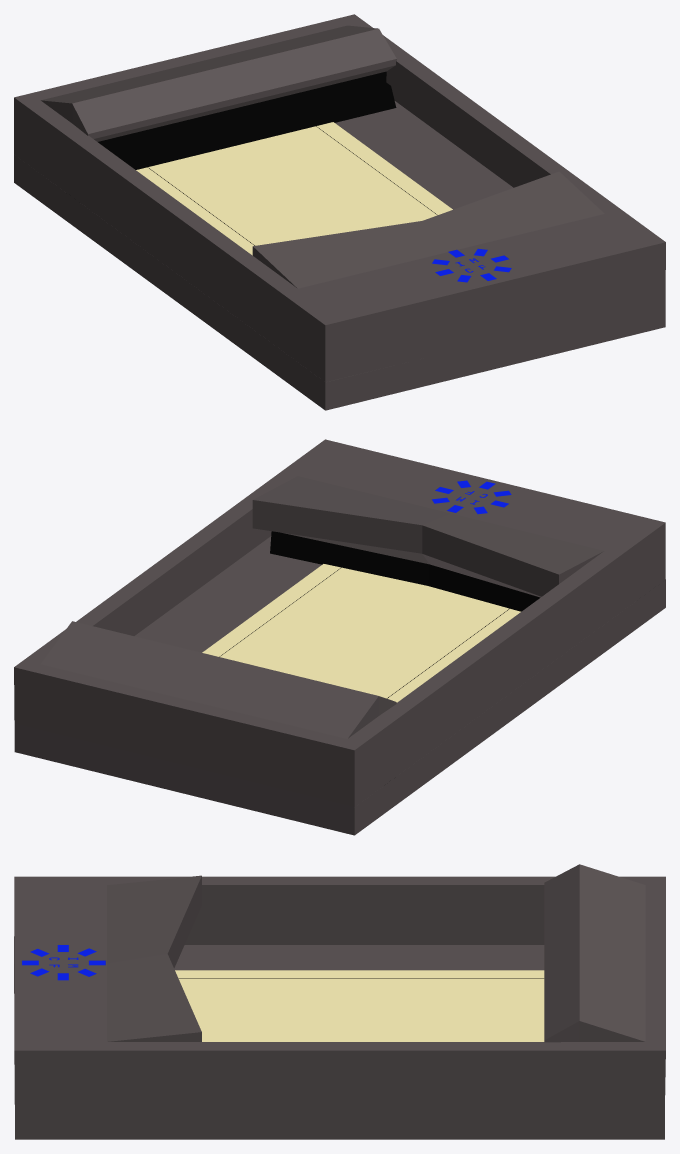
The model's file is TrackerBase.glb.
3 renders of one model, top to bottom at view 1: azimuth 30°, elevation 25°; view 2: azimuth 150°, elevation 25°; view 3: azimuth 270°, elevation 25°, orthographic. The views are drawn at different scales.
Visible parts, largest first — view 1: Cube, TrackBase, Cube.001, IMCF; view 2: Cube, TrackBase, Cube.001, IMCF; view 3: Cube, TrackBase, IMCF.
Boxes of the visible parts, bbox=[...] form: Cube: bbox=[14, 14, 665, 410]; TrackBase: bbox=[136, 122, 452, 255]; Cube.001: bbox=[98, 71, 396, 169]; IMCF: bbox=[432, 248, 511, 282]; Cube: bbox=[14, 439, 665, 835]; TrackBase: bbox=[202, 564, 520, 702]; Cube.001: bbox=[270, 531, 540, 611]; IMCF: bbox=[432, 480, 511, 514]; Cube: bbox=[14, 864, 665, 1139]; TrackBase: bbox=[175, 970, 544, 1041]; IMCF: bbox=[22, 945, 105, 980].
Size of the model in its own units: 1.26 by 0.3732 by 2.
4 materials, 2 textured.
